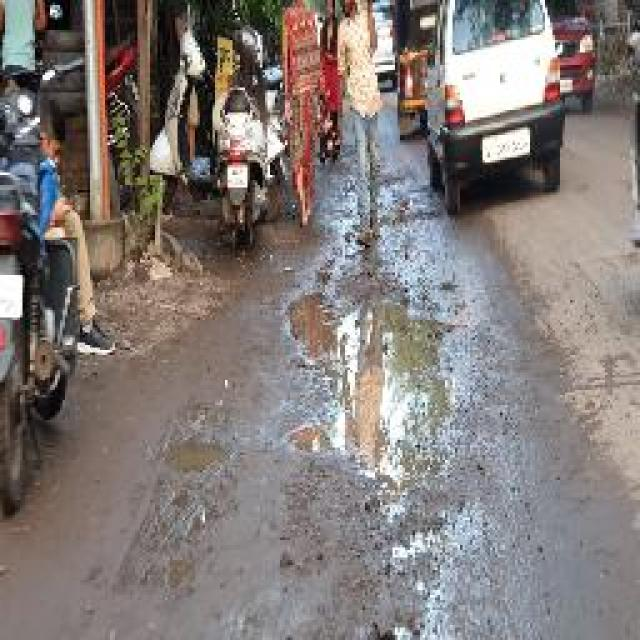puddle: (282, 275, 473, 506)
